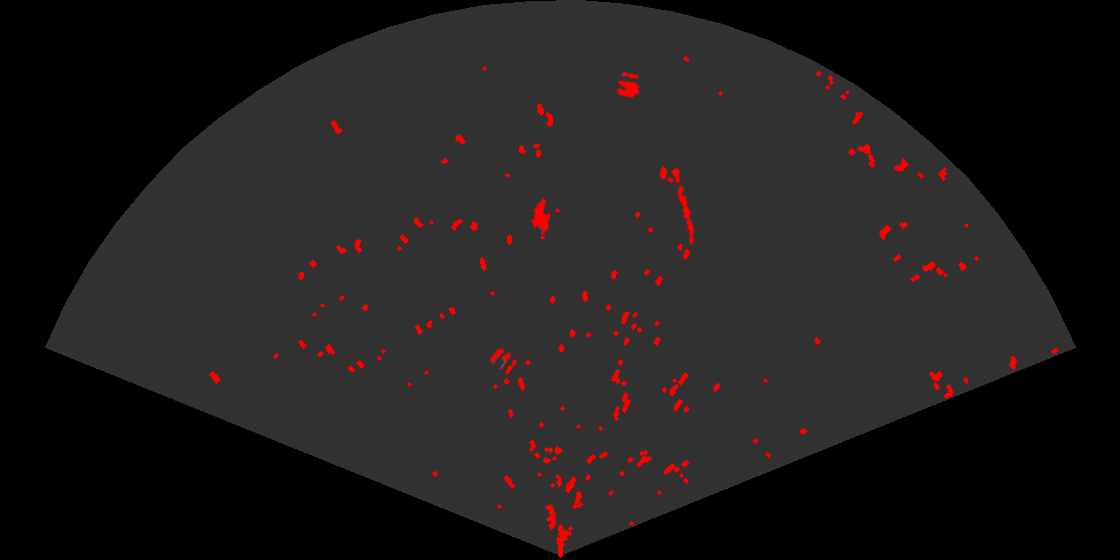AUV: (530, 196, 552, 237)
ball: (488, 346, 519, 376), (615, 70, 641, 100)
chain: (670, 162, 696, 246)
